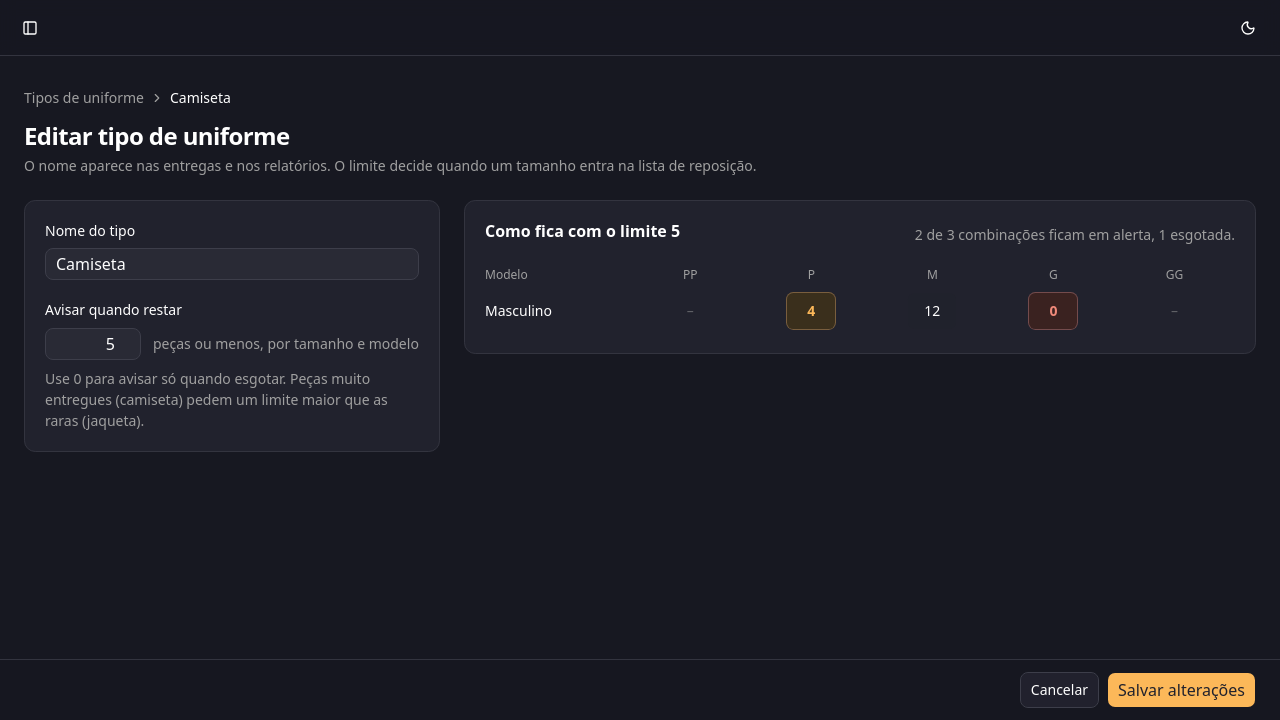
Test: TipoUniformeFormPage › mostra a prévia de alertas com o limite digitado
Expected: the field showing "Camiseta" is shown, [45,248,419,280]
Expected: the text "2 de 3 combinações ficam em alerta, 1 esgotada." is shown, [915,225,1235,245]
Replace the text in the number field labelled "Avisar quando restar" with "12" at (93,344), box [45,328,141,360]
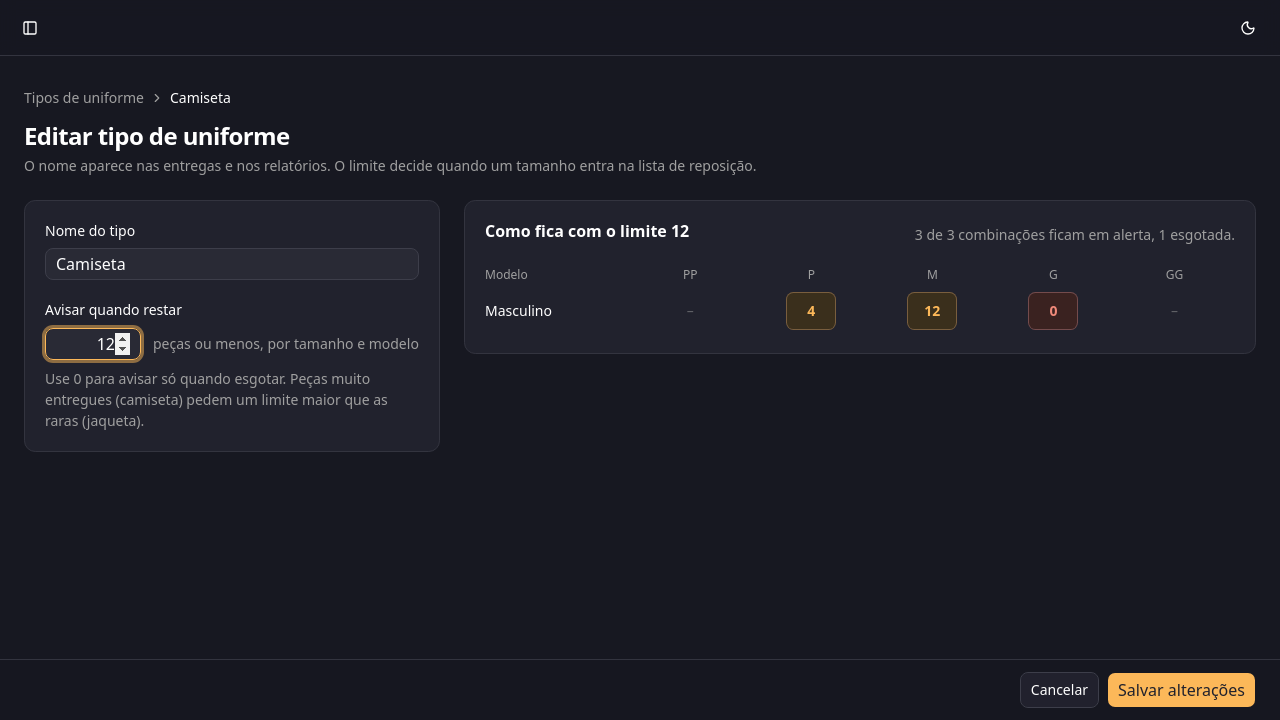
Now the text "3 de 3 combinações ficam em alerta, 1 esgotada." is shown, box [915,225,1235,245]
